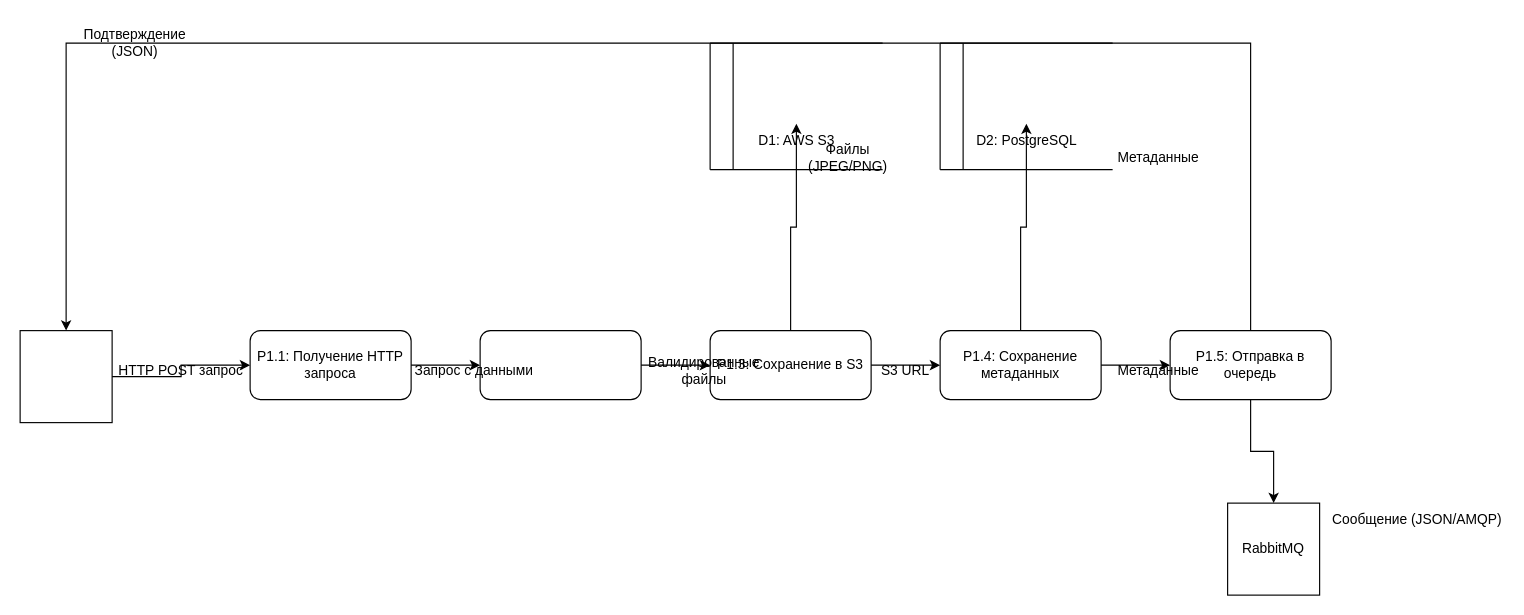
This 1524x615 diagram has some shape labels left out. Here are the shapes that lost their labels. From the top down, the centre of each, then its label:
At (65,376): "Пациент".
At (560,364): "P1.2: Валидация формата".
